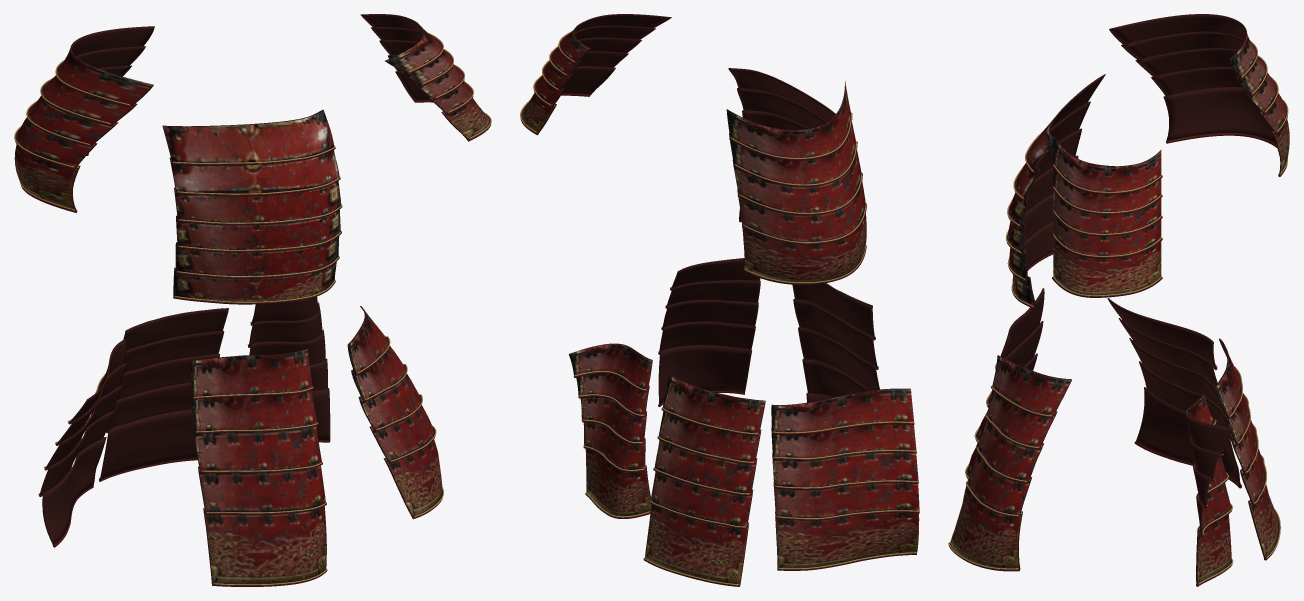
Rendered from body-v2-pass8-plates.glb.
The picture shows the model from 3 angles, left to right: view 1: azimuth 30°, elevation 25°; view 2: azimuth 150°, elevation 25°; view 3: azimuth 270°, elevation 25°; orthographic projection. The views are drawn at different scales.
Visible parts, largest first — view 1: Sanada / plates; view 2: Sanada / plates; view 3: Sanada / plates.
Part boxes in pixels (x1=…): Sanada / plates: x1=14, y1=14, x2=491, y2=586; Sanada / plates: x1=520, y1=14, x2=919, y2=586; Sanada / plates: x1=948, y1=14, x2=1289, y2=586.
Bounding box in the file's own units: 0.8011 × 0.8386 × 0.5535.
4 materials, 1 textured.
